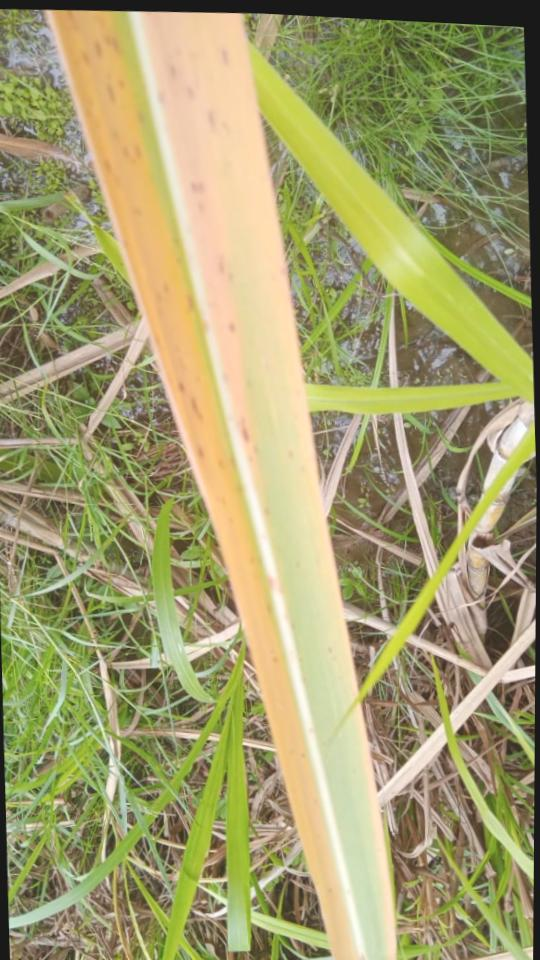RedRot: (268, 575, 275, 591)
Rust: (189, 397, 204, 423), (239, 416, 249, 443), (208, 109, 217, 132), (217, 254, 226, 274), (106, 84, 115, 102), (94, 40, 102, 59), (112, 37, 120, 56), (102, 159, 112, 174), (221, 48, 229, 66), (133, 144, 142, 160), (186, 293, 195, 309), (168, 65, 176, 80), (81, 51, 89, 64), (137, 110, 145, 123), (177, 382, 185, 394), (196, 447, 204, 458), (228, 322, 236, 333), (197, 203, 205, 213), (196, 182, 203, 193), (122, 146, 129, 157), (187, 87, 193, 99), (117, 80, 125, 89), (163, 283, 170, 293), (251, 445, 258, 455), (157, 92, 163, 103), (216, 460, 224, 468), (103, 36, 110, 45), (294, 560, 301, 569), (191, 182, 196, 194), (135, 210, 143, 217), (220, 498, 227, 506), (287, 450, 294, 458), (228, 273, 234, 282), (264, 508, 270, 517), (326, 647, 333, 653), (247, 456, 253, 463), (227, 516, 233, 523), (299, 467, 305, 473)
Yellow: (42, 11, 357, 960), (136, 12, 284, 531), (354, 702, 396, 960)
